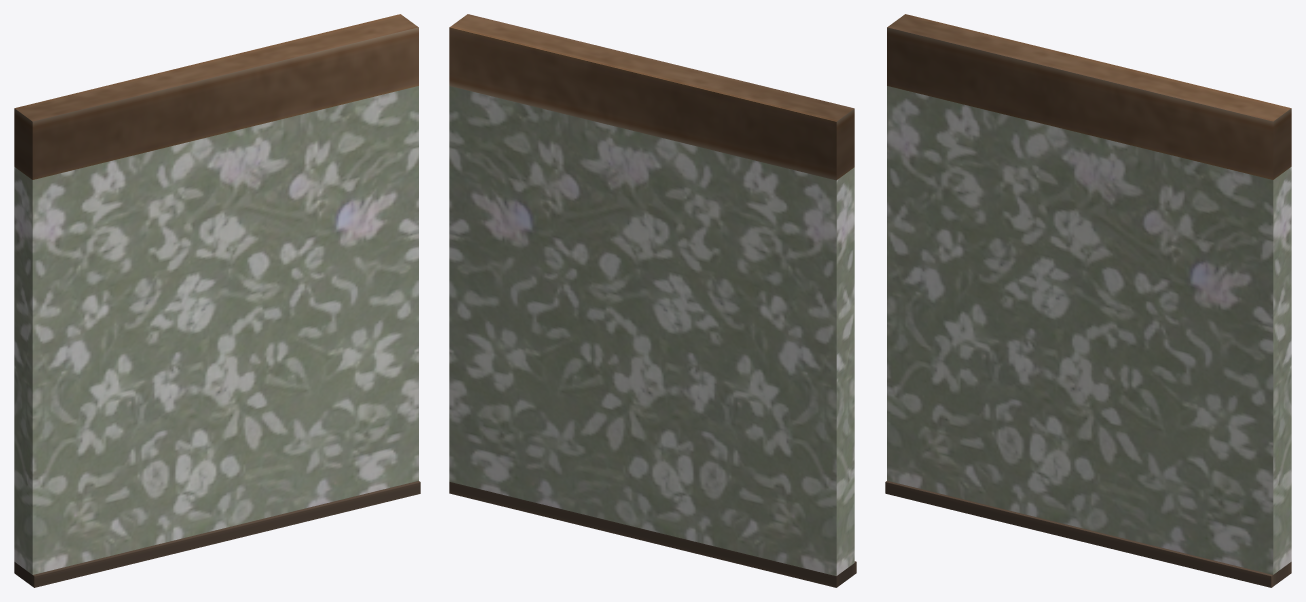
Rendered from kitcentop01ba.fbx.
3 views of the same model, side by side, from view 1: azimuth 30°, elevation 25°; view 2: azimuth 150°, elevation 25°; view 3: azimuth 330°, elevation 25° (orthographic).
Parts seen in each view (by area): view 1: kitcentop01ba; view 2: kitcentop01ba; view 3: kitcentop01ba.
Boxes of the visible parts, left/top/right/bottom form: kitcentop01ba: left=14, top=14, right=420, bottom=587; kitcentop01ba: left=449, top=14, right=856, bottom=587; kitcentop01ba: left=885, top=14, right=1291, bottom=587.
Bounding box in the file's own units: 0.927 × 1.07 × 0.0834.
